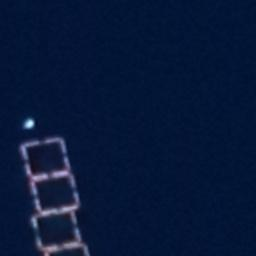square_solid: (15, 132, 78, 180), (24, 170, 85, 217), (27, 207, 85, 252)
